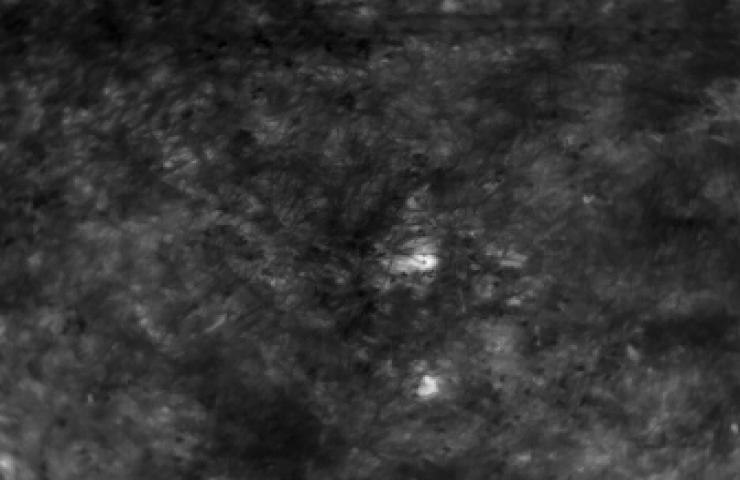landmines: (402, 243, 444, 278)
